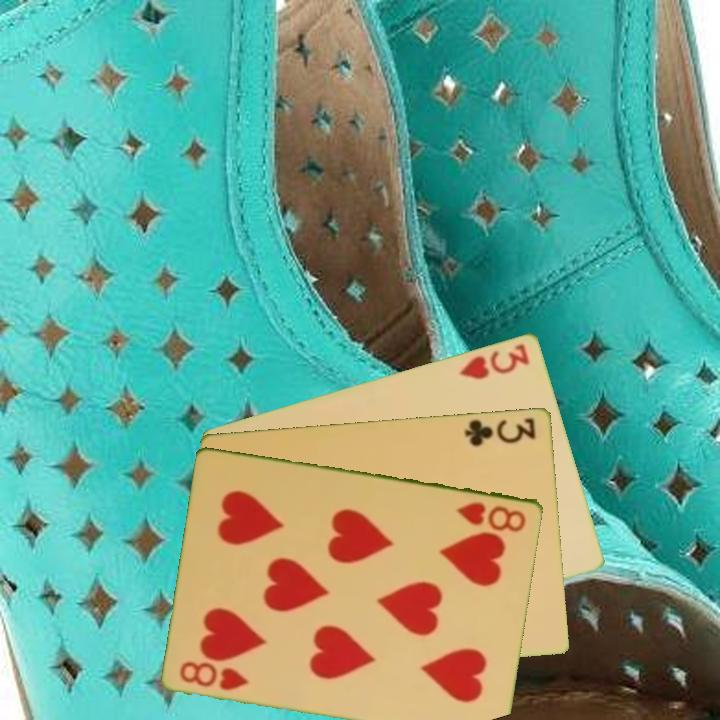3c: (461, 414, 539, 449)
3h: (456, 339, 533, 382)
8h: (453, 498, 529, 534), (176, 657, 252, 693)
